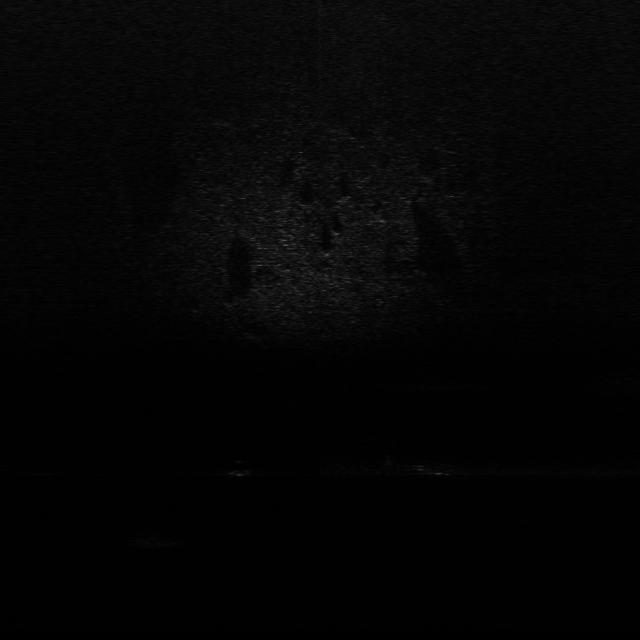ball: (233, 456, 263, 479)
circle cage: (128, 526, 184, 554)
human body: (337, 454, 457, 480)
